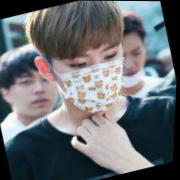NONE: (8, 65, 63, 122)
OK: (47, 31, 140, 122)
WRONG: (109, 40, 156, 91)
